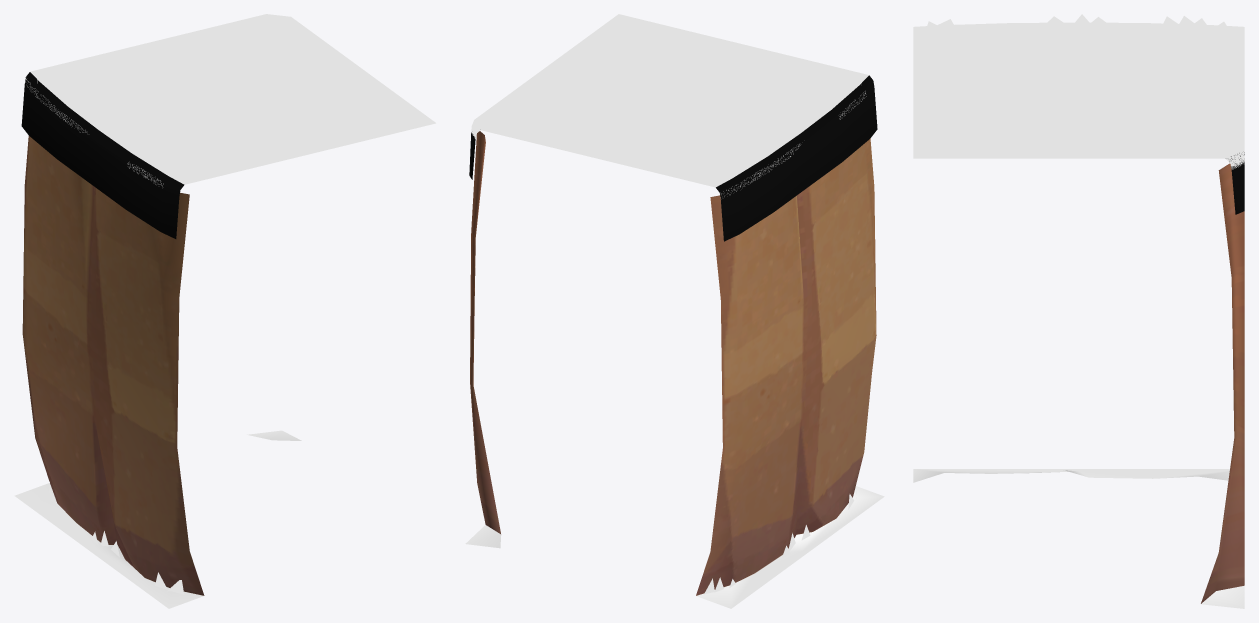
The picture shows the model from 3 angles, left to right: view 1: azimuth 30°, elevation 25°; view 2: azimuth 150°, elevation 25°; view 3: azimuth 270°, elevation 25°; orthographic projection. The views are drawn at different scales.
Parts seen in each view (by area): view 1: CliffA__mCliff, GrassT__mGrass, GrassOP_1__mGrassCliffXlu, GrassB_1__mGrass; view 2: CliffA__mCliff, GrassT__mGrass, GrassOP_1__mGrassCliffXlu, GrassB_1__mGrass; view 3: GrassT__mGrass, CliffA__mCliff, GrassB_1__mGrass, GrassOP_1__mGrassCliffXlu, PGrassBC__mProcGrass.
Boxes of the visible parts, bbox=[...] form: CliffA__mCliff: bbox=[22, 136, 204, 595]; GrassT__mGrass: bbox=[25, 14, 435, 186]; GrassOP_1__mGrassCliffXlu: bbox=[21, 72, 184, 238]; GrassB_1__mGrass: bbox=[14, 430, 301, 608]; CliffA__mCliff: bbox=[470, 131, 876, 595]; GrassT__mGrass: bbox=[471, 14, 868, 197]; GrassOP_1__mGrassCliffXlu: bbox=[469, 75, 877, 241]; GrassB_1__mGrass: bbox=[465, 486, 884, 608]; GrassT__mGrass: bbox=[913, 22, 1244, 169]; CliffA__mCliff: bbox=[1201, 163, 1244, 603]; GrassB_1__mGrass: bbox=[913, 469, 1244, 608]; GrassOP_1__mGrassCliffXlu: bbox=[1229, 152, 1244, 214]; PGrassBC__mProcGrass: bbox=[926, 14, 1226, 29].
Size of the model in its own units: 10 by 15.34 by 10.
4 materials, 1 textured.
